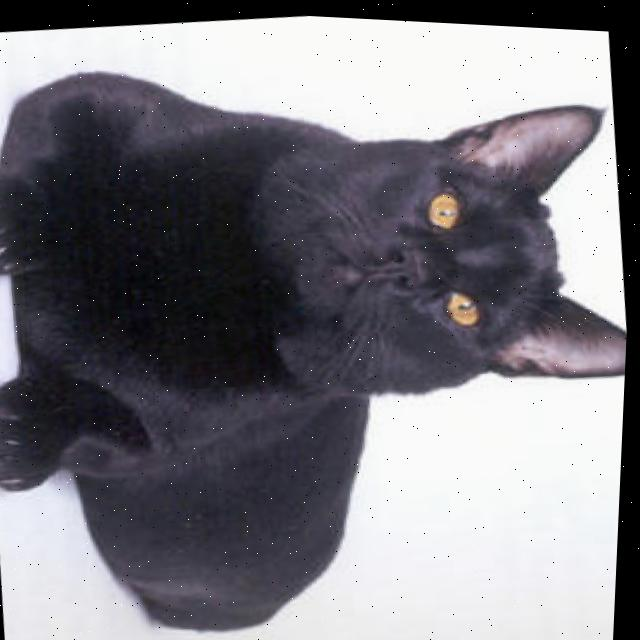Bombay: (0, 10, 640, 640)
